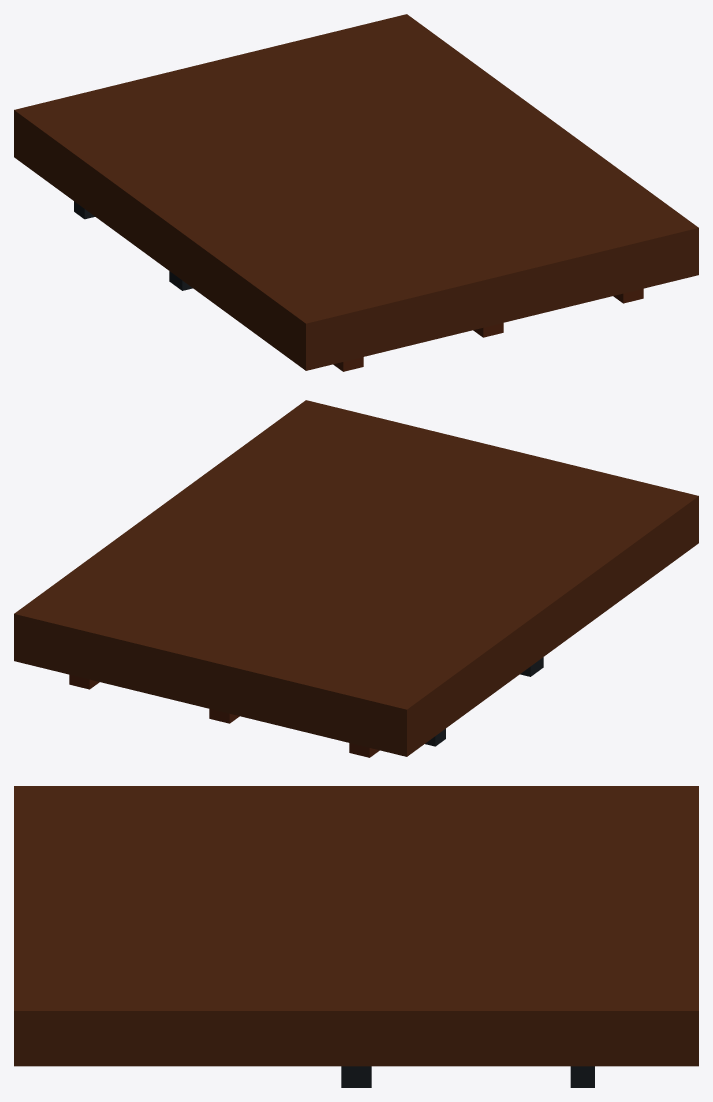
File: SM_Door_Wood.obj
3 views of the same model, one above another, from view 1: azimuth 30°, elevation 25°; view 2: azimuth 150°, elevation 25°; view 3: azimuth 270°, elevation 25° (orthographic). The views are drawn at different scales.
Parts seen in each view (by area): view 1: SM_Door_Wood; view 2: SM_Door_Wood; view 3: SM_Door_Wood.
Boxes of the visible parts, x1=… form: SM_Door_Wood: x1=14, y1=14, x2=698, y2=371; SM_Door_Wood: x1=14, y1=400, x2=698, y2=757; SM_Door_Wood: x1=14, y1=786, x2=698, y2=1087.
Bounding box in the file's own units: 174 × 31 × 224.
